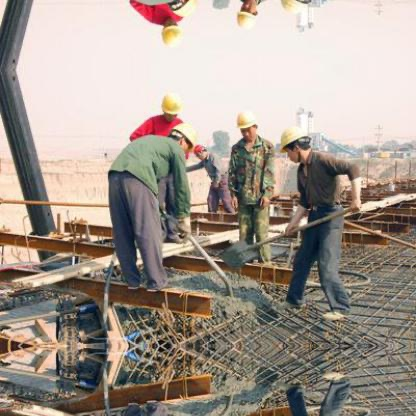Safety Helmet: (276, 123, 322, 165), (164, 120, 199, 155), (232, 107, 264, 144), (232, 1, 266, 35), (155, 12, 184, 51), (154, 89, 185, 121), (192, 141, 210, 163)
